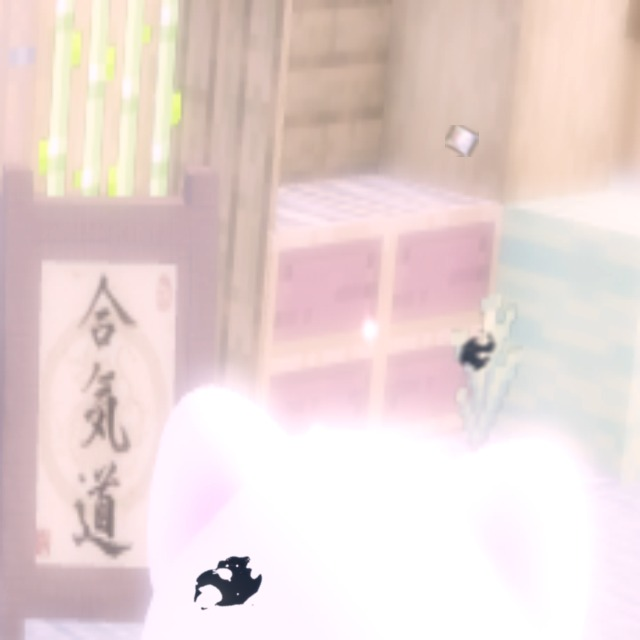urso_branco: (445, 125, 479, 157)
urso_preto: (175, 542, 280, 626), (445, 319, 511, 385)
